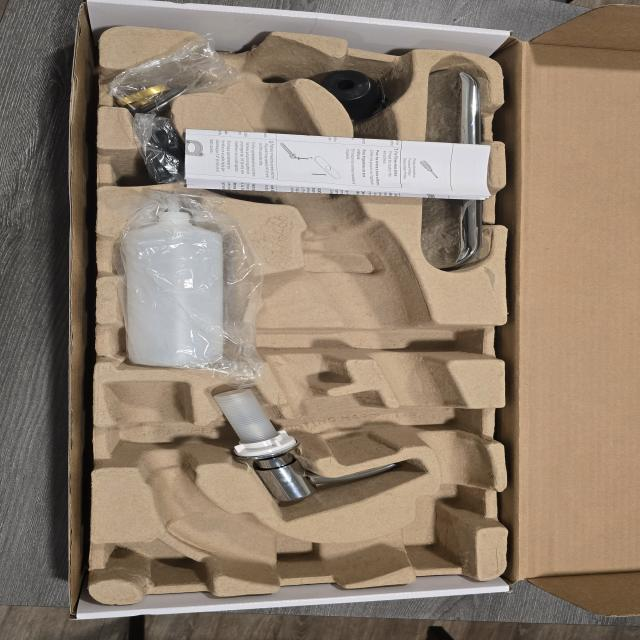1m: (105, 41, 474, 574)
2: (211, 386, 402, 503)
3: (123, 196, 225, 370)
4: (409, 68, 487, 272)
5: (319, 69, 382, 119)
6: (109, 35, 237, 115)
7: (134, 116, 185, 181)
8: (185, 128, 493, 198)
